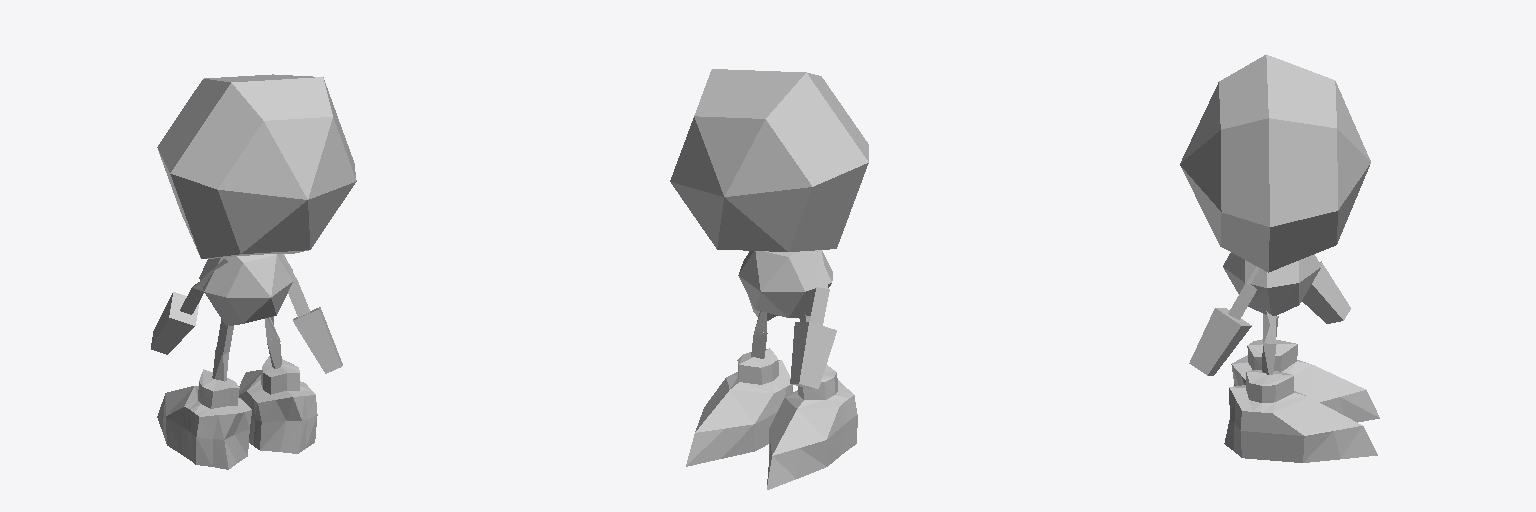
Rendered from charTest.obj.
3 views of the same model, side by side, from view 1: azimuth 30°, elevation 25°; view 2: azimuth 150°, elevation 25°; view 3: azimuth 270°, elevation 25° (orthographic).
Parts seen in each view (by area): view 1: Sphere.001; view 2: Sphere.001; view 3: Sphere.001.
Part boxes in pixels (x1,y1,x2,y2): Sphere.001: (151, 74, 356, 469); Sphere.001: (670, 69, 868, 489); Sphere.001: (1180, 54, 1379, 462).
Size of the model in its own units: 6.44 by 12.28 by 6.